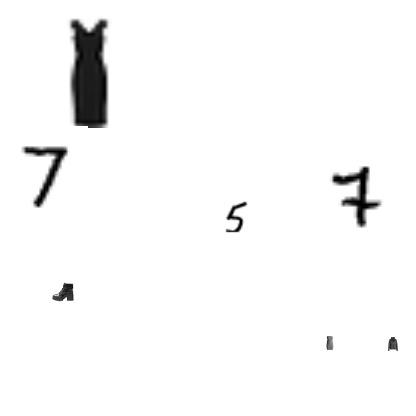5: (214, 196, 256, 238)
7: (315, 149, 399, 233), (4, 126, 88, 210)
Ankle_boot: (52, 281, 74, 303)
Coat: (386, 337, 400, 351)
Dress: (31, 16, 143, 128), (323, 336, 337, 350)
